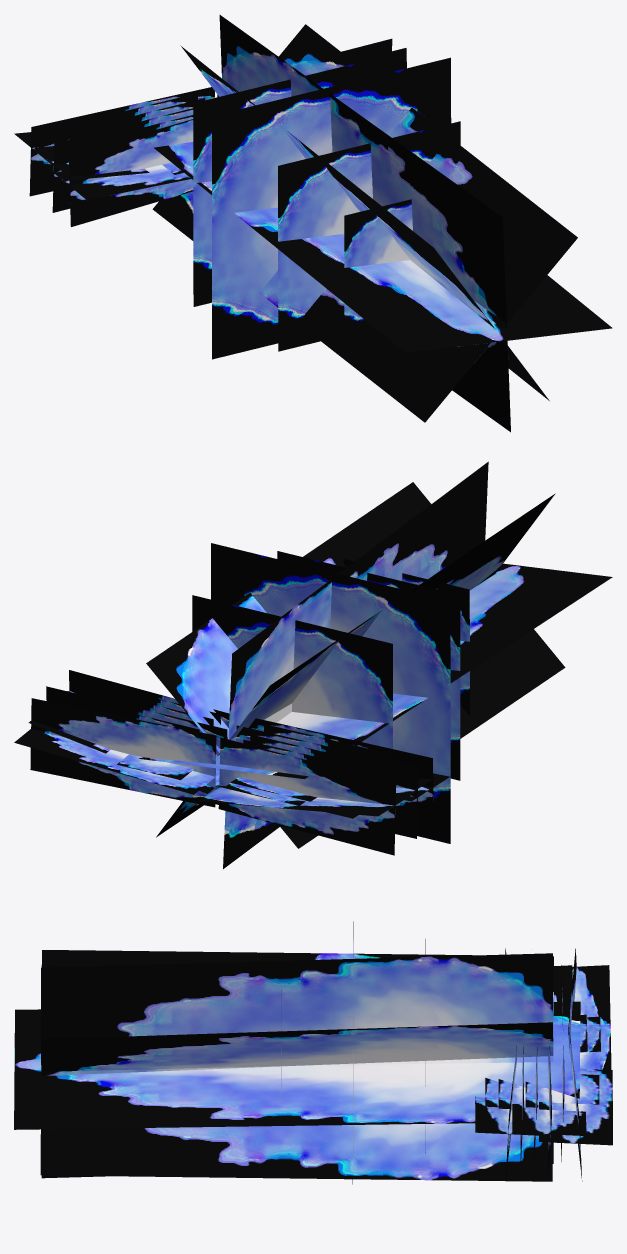
Rendered from MuzzleFlash.FBX.
3 views of the same model, one above another, from view 1: azimuth 30°, elevation 25°; view 2: azimuth 150°, elevation 25°; view 3: azimuth 270°, elevation 25° (orthographic). The views are drawn at different scales.
Visible parts, largest first — view 1: Object027; view 2: Object027; view 3: Object027.
Part boxes in pixels (x1,y1,x2,y2): Object027: [14, 15, 612, 432]; Object027: [14, 461, 612, 868]; Object027: [14, 921, 612, 1184].
Size of the model in its own units: 25.01 by 16.02 by 37.69.
Materials: 1 (1 with a texture image).
